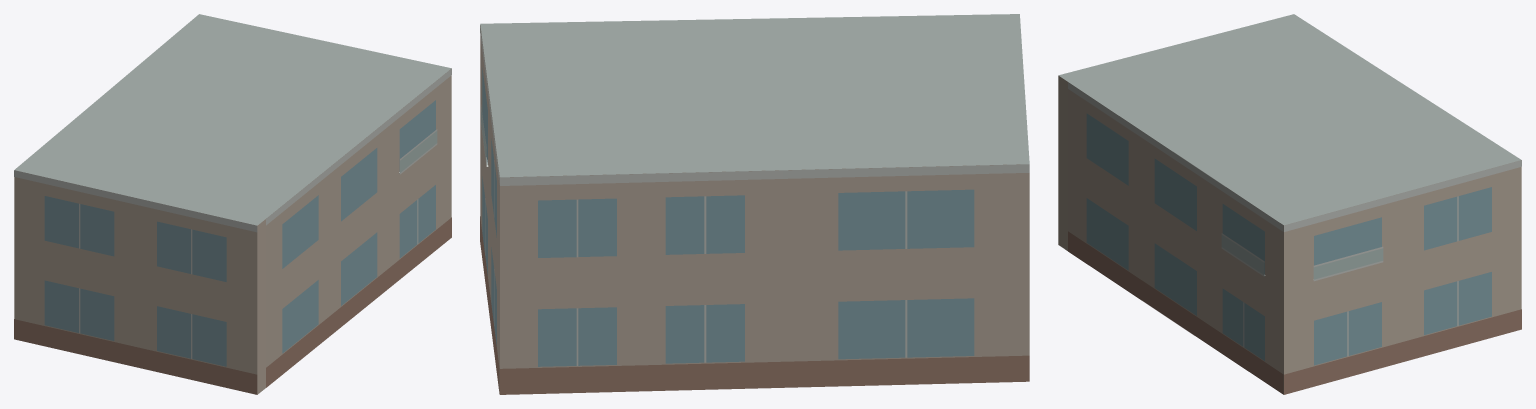
Rendered from survey-upis-32729878.glb.
The picture shows the model from 3 angles, left to right: view 1: azimuth 30°, elevation 25°; view 2: azimuth 150°, elevation 25°; view 3: azimuth 270°, elevation 25°; orthographic projection. The views are drawn at different scales.
Visible parts, largest first — view 1: survey-upis-32729878.tmp; view 2: survey-upis-32729878.tmp; view 3: survey-upis-32729878.tmp.
Boxes of the visible parts, x1,y1,x2,y2 form: survey-upis-32729878.tmp: [14, 14, 451, 394]; survey-upis-32729878.tmp: [480, 14, 1029, 394]; survey-upis-32729878.tmp: [1058, 14, 1521, 394].
Size of the model in its own units: 16.33 by 6.1 by 15.13.
